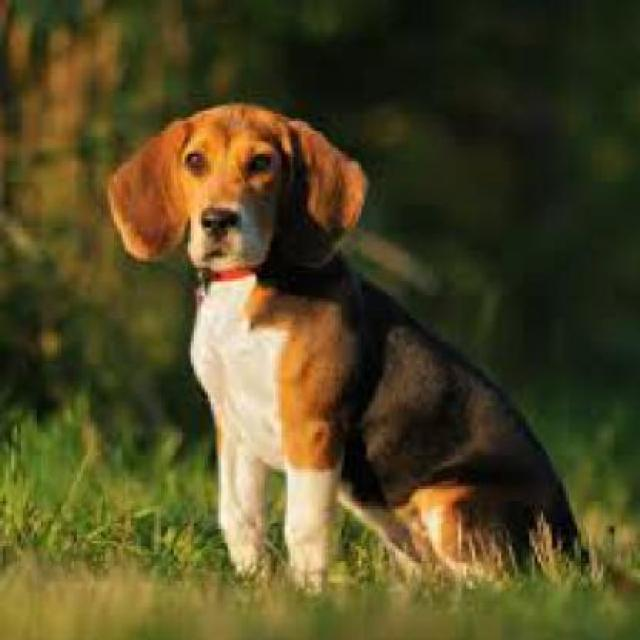Dog: (106, 100, 592, 588)
